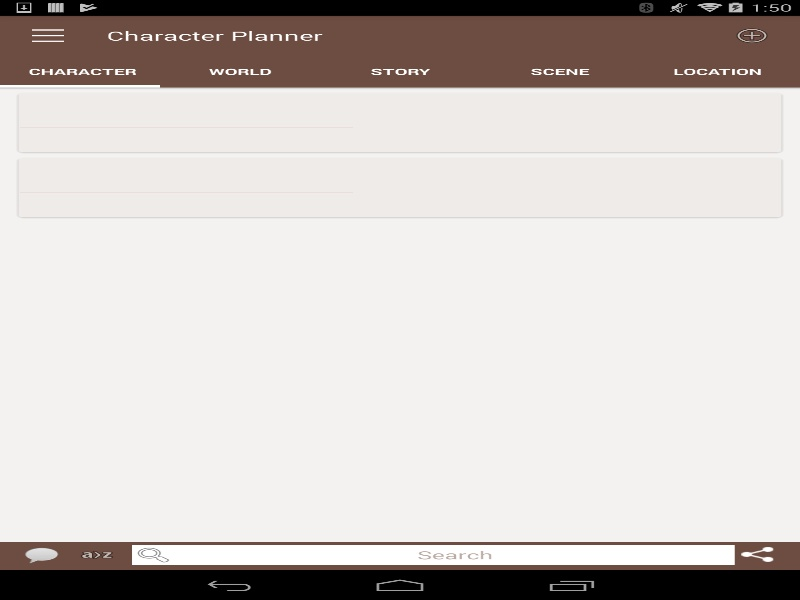Button: (10, 15, 85, 55), (20, 545, 62, 565), (76, 545, 118, 565), (741, 546, 773, 561)
Input: (132, 545, 734, 565)
